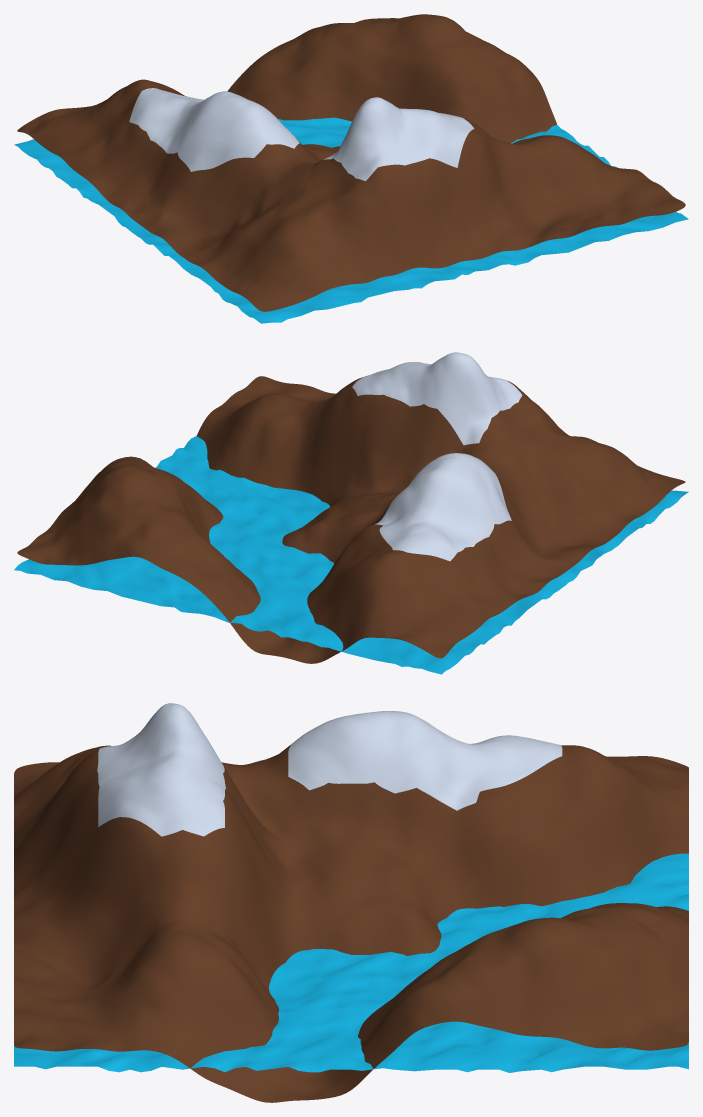
The model's file is Map.fbx.
The picture shows the model from 3 angles, top to bottom: view 1: azimuth 30°, elevation 25°; view 2: azimuth 150°, elevation 25°; view 3: azimuth 270°, elevation 25°; orthographic projection. The views are drawn at different scales.
Parts seen in each view (by area): view 1: Ground, Water; view 2: Ground, Water; view 3: Ground, Water.
Part boxes in pixels (<box>): Ground: <box>17,14,685,311</box>; Water: <box>14,117,688,323</box>; Ground: <box>17,352,685,663</box>; Water: <box>14,436,688,674</box>; Ground: <box>14,703,688,1102</box>; Water: <box>14,853,688,1072</box>.
Bounding box in the file's own units: 2000 × 741 × 2000.
